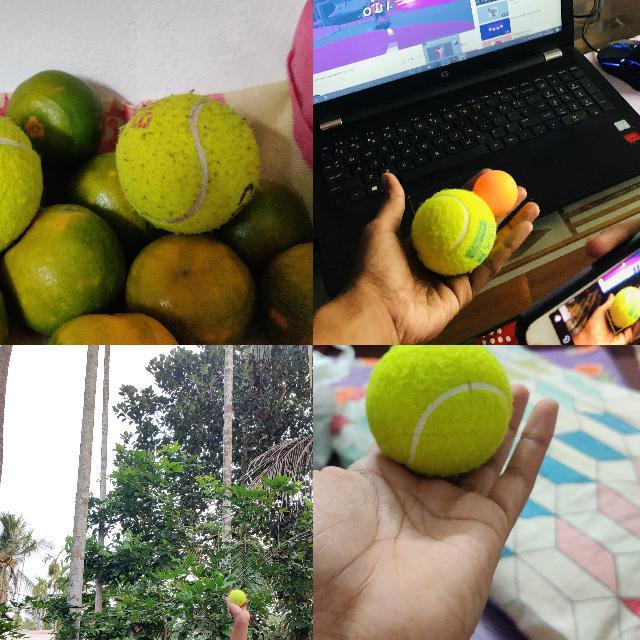tennis-ball: (114, 93, 260, 233), (364, 345, 515, 478), (413, 190, 496, 275), (229, 589, 246, 606)
